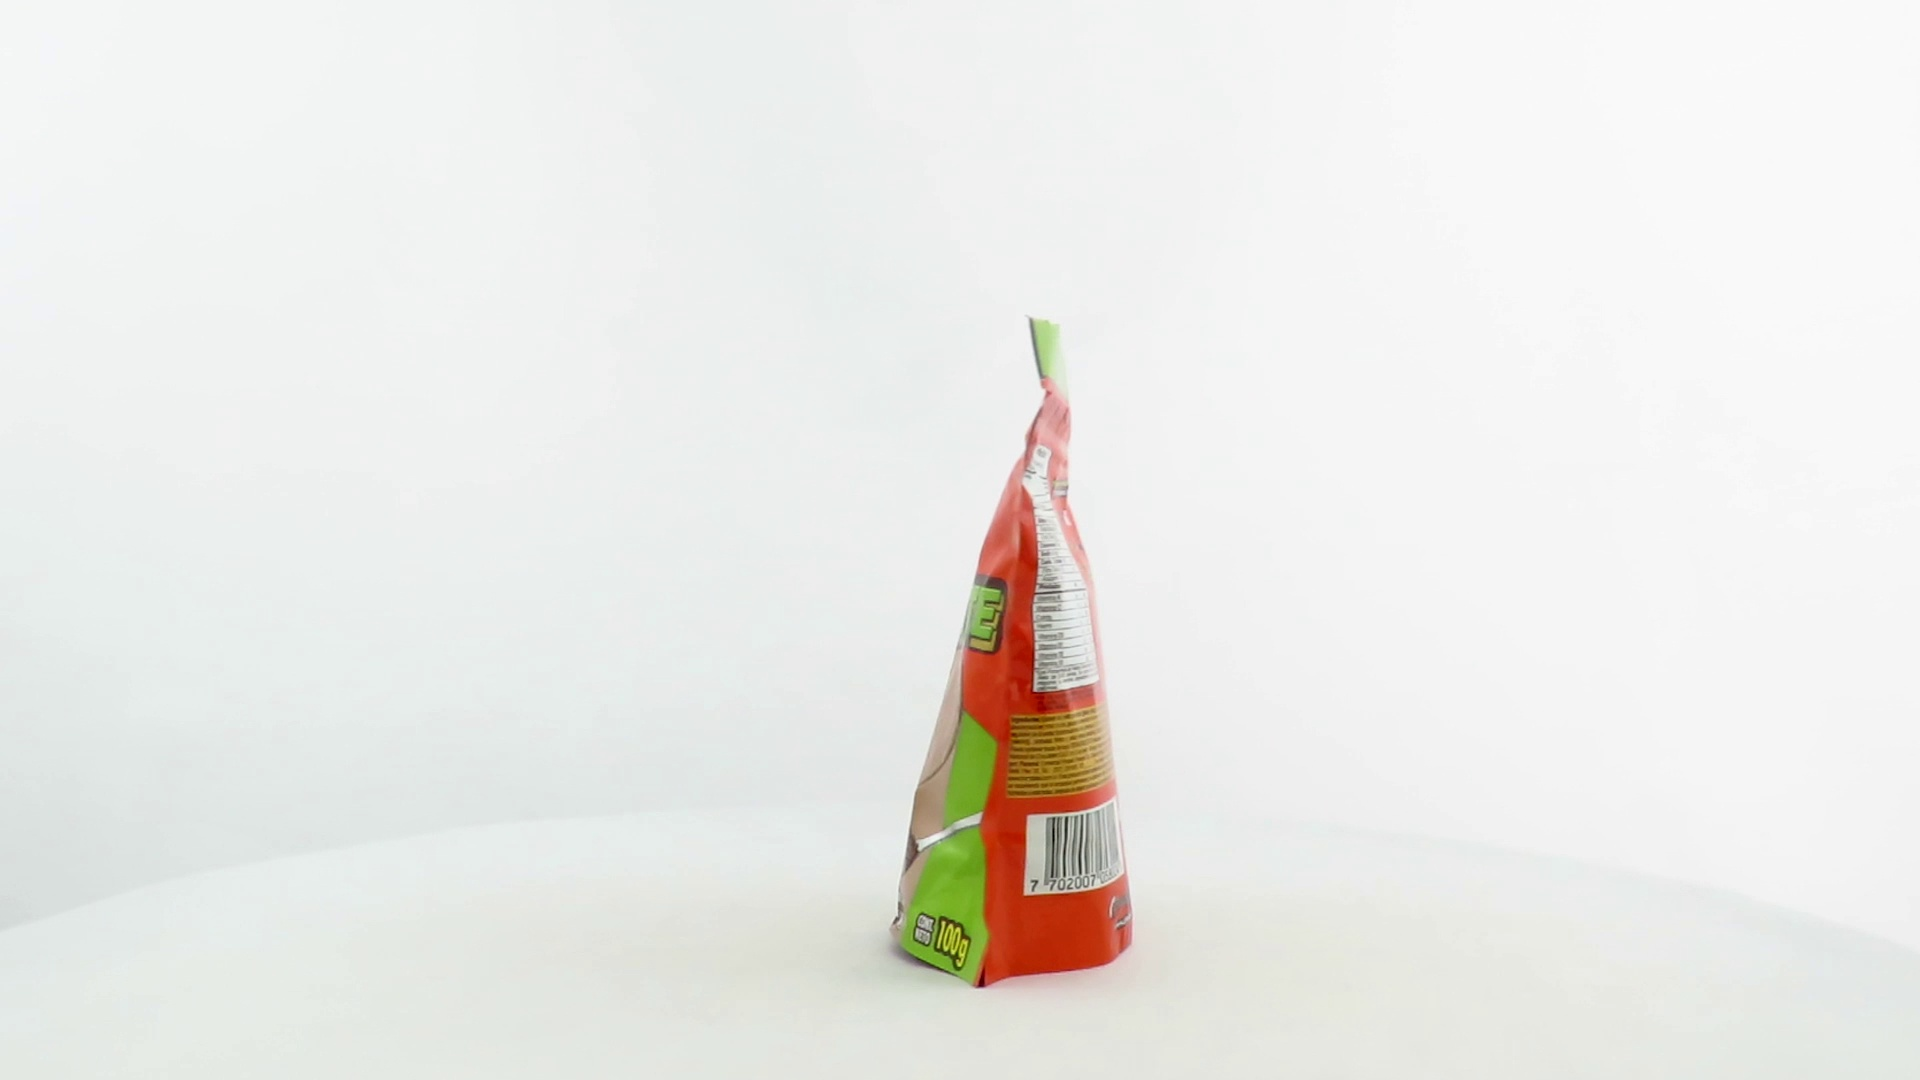COL0170102DYP10000: (882, 313, 1139, 996)
